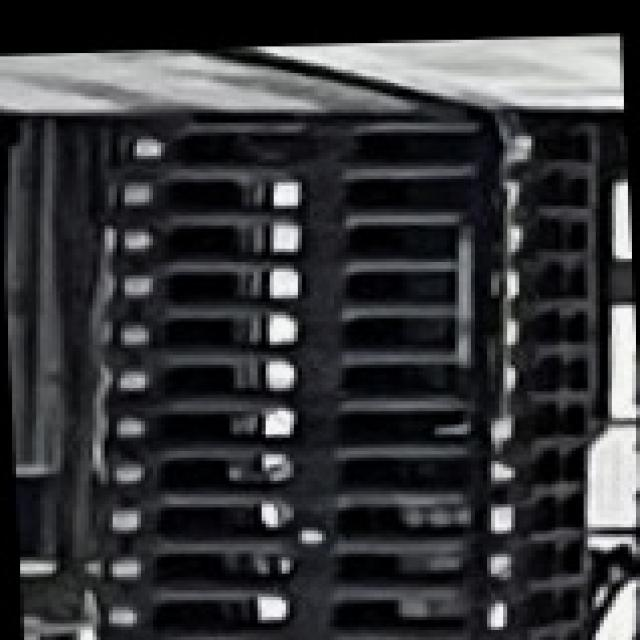igps: (106, 103, 609, 176), (92, 538, 600, 590), (86, 589, 601, 640), (97, 264, 606, 313), (95, 405, 611, 451), (96, 358, 606, 404), (98, 217, 605, 263), (83, 498, 593, 543), (90, 312, 602, 356), (96, 450, 596, 494), (97, 174, 608, 217)
